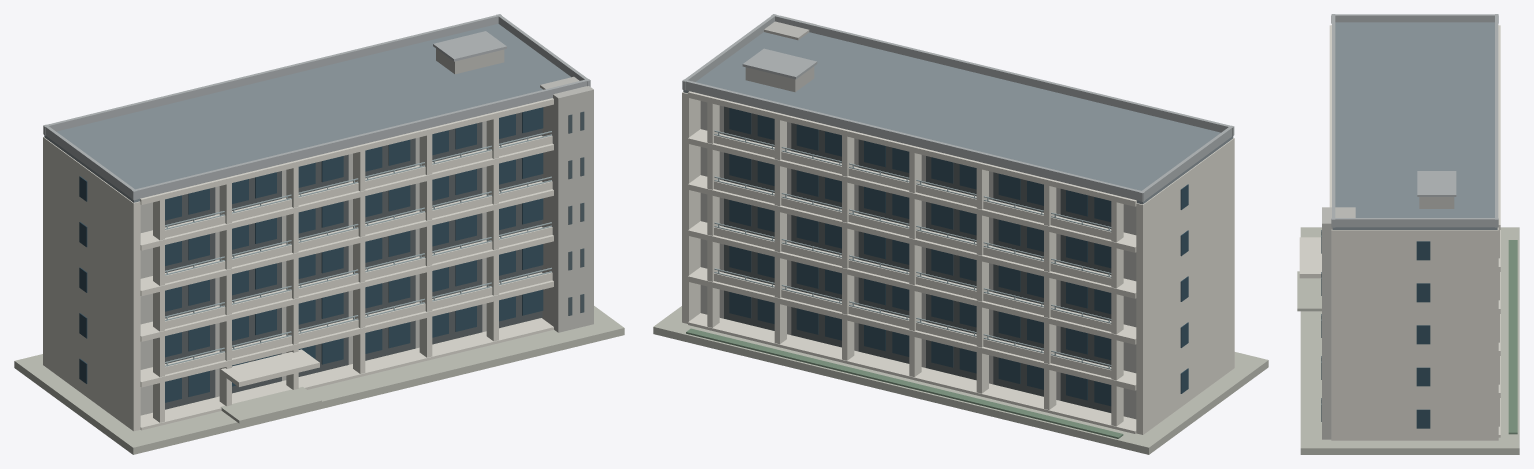
3 renders of one model, left to right at view 1: azimuth 30°, elevation 25°; view 2: azimuth 150°, elevation 25°; view 3: azimuth 270°, elevation 25°, orthographic. The views are drawn at different scales.
Bounding box in the file's own units: 34.4 × 17.1 × 14.63.
